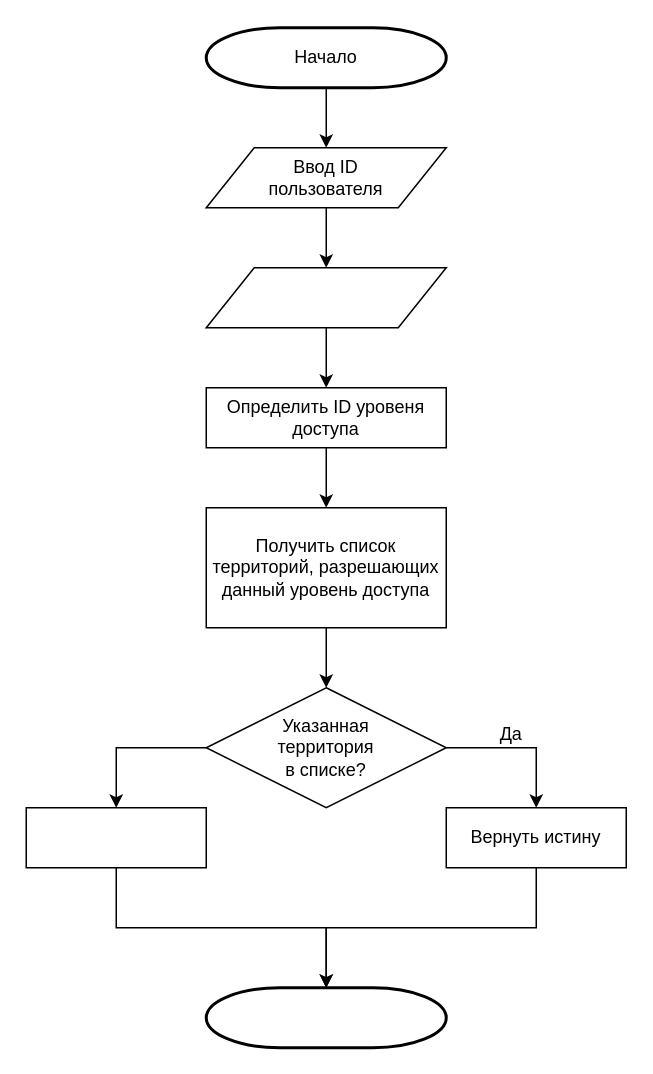
This 653x1074 diagram has some shape labels left out. Each missing label, with the centre of its shape:
"Ввод ID территории" belongs at point (325, 297).
"Вернуть ложь" belongs at point (115, 837).
"Конец" belongs at point (325, 1017).
